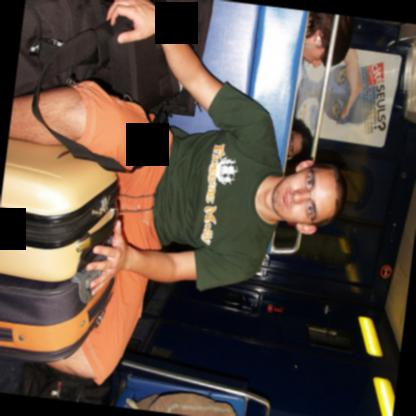backpack: (16, 360, 121, 405)
handbag: (30, 0, 181, 174), (11, 0, 110, 104)
suitcase: (0, 139, 120, 281), (0, 274, 115, 363)
